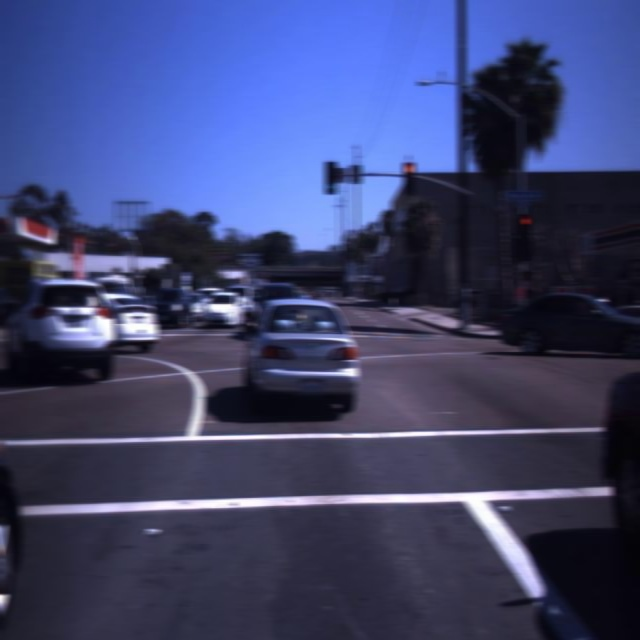go left: (325, 162, 337, 192)
go left traffic light: (325, 162, 337, 192)
stop: (402, 162, 417, 192), (520, 217, 532, 237)
stop traffic light: (402, 162, 417, 192), (520, 217, 532, 237)
